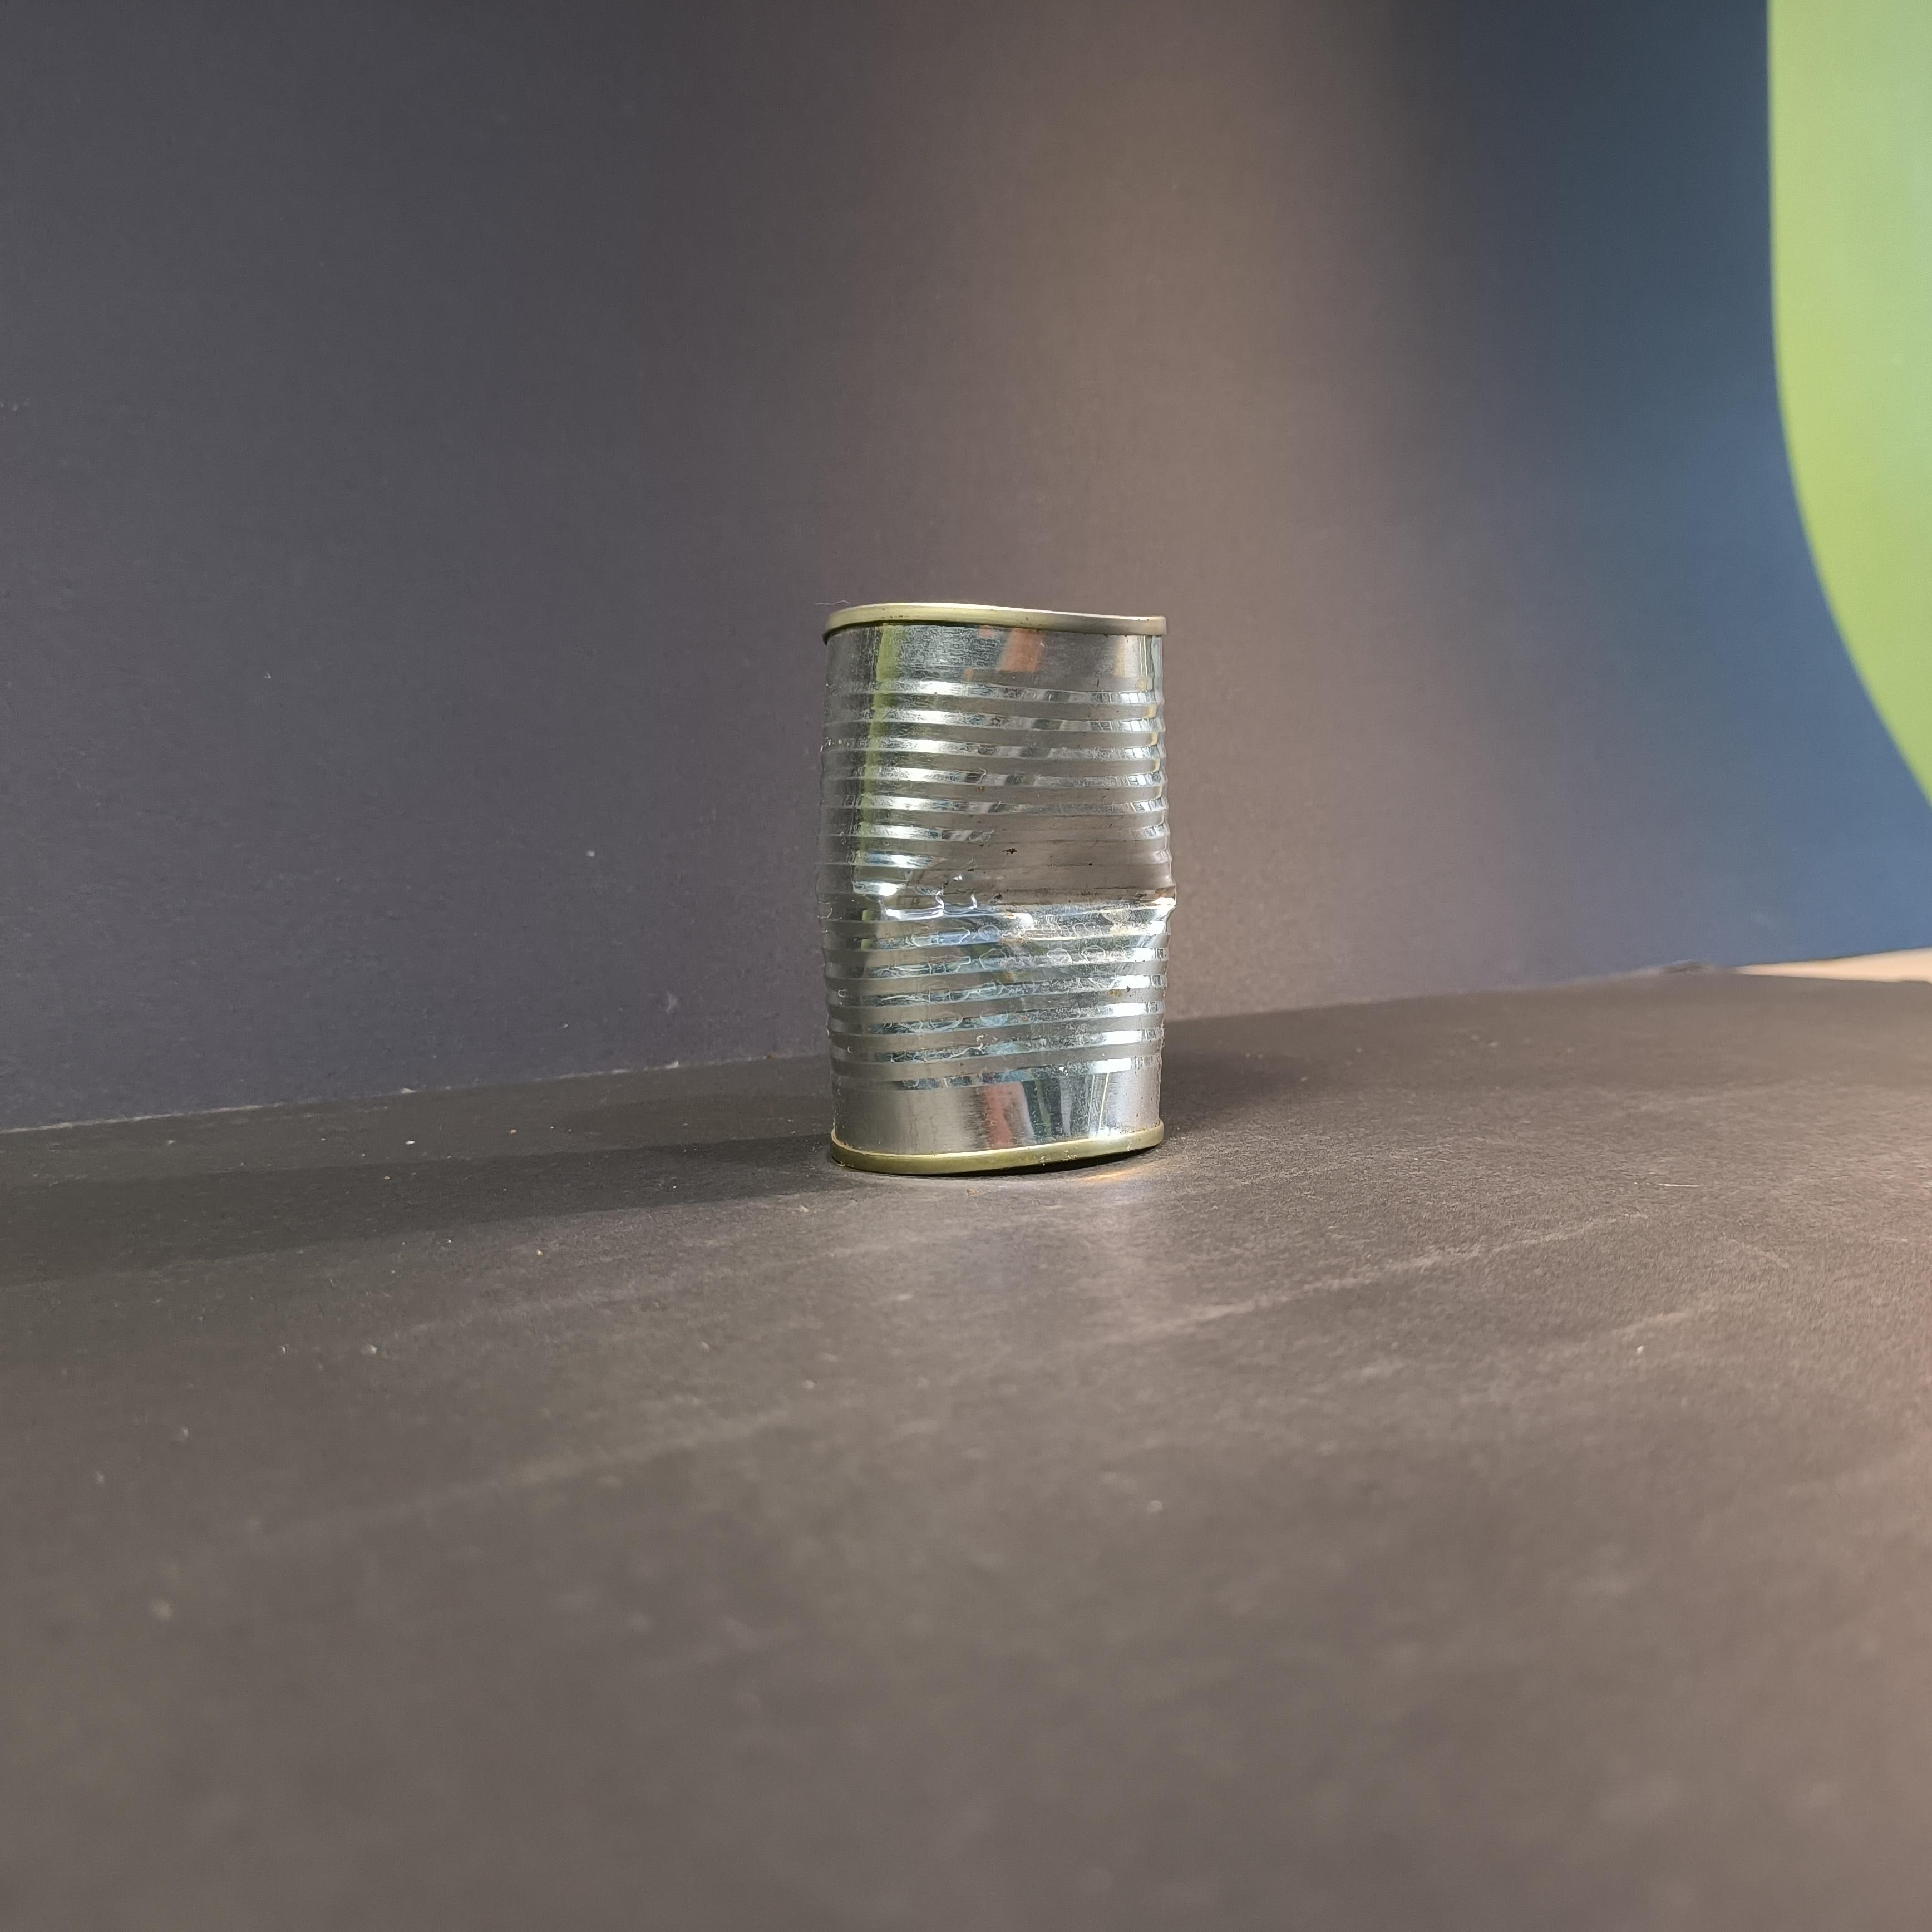Dented: (791, 579, 1219, 1182)
